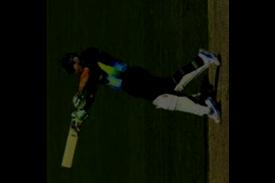batsman: (59, 46, 229, 138)
